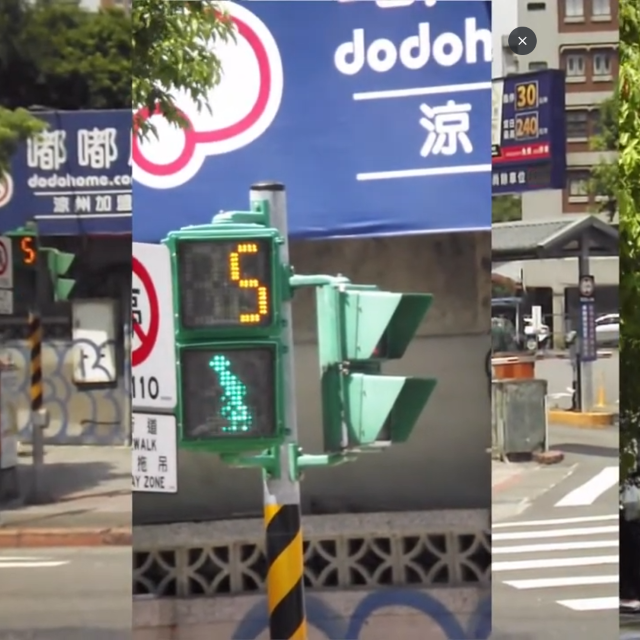green_light: (172, 232, 287, 438), (10, 234, 39, 301)
